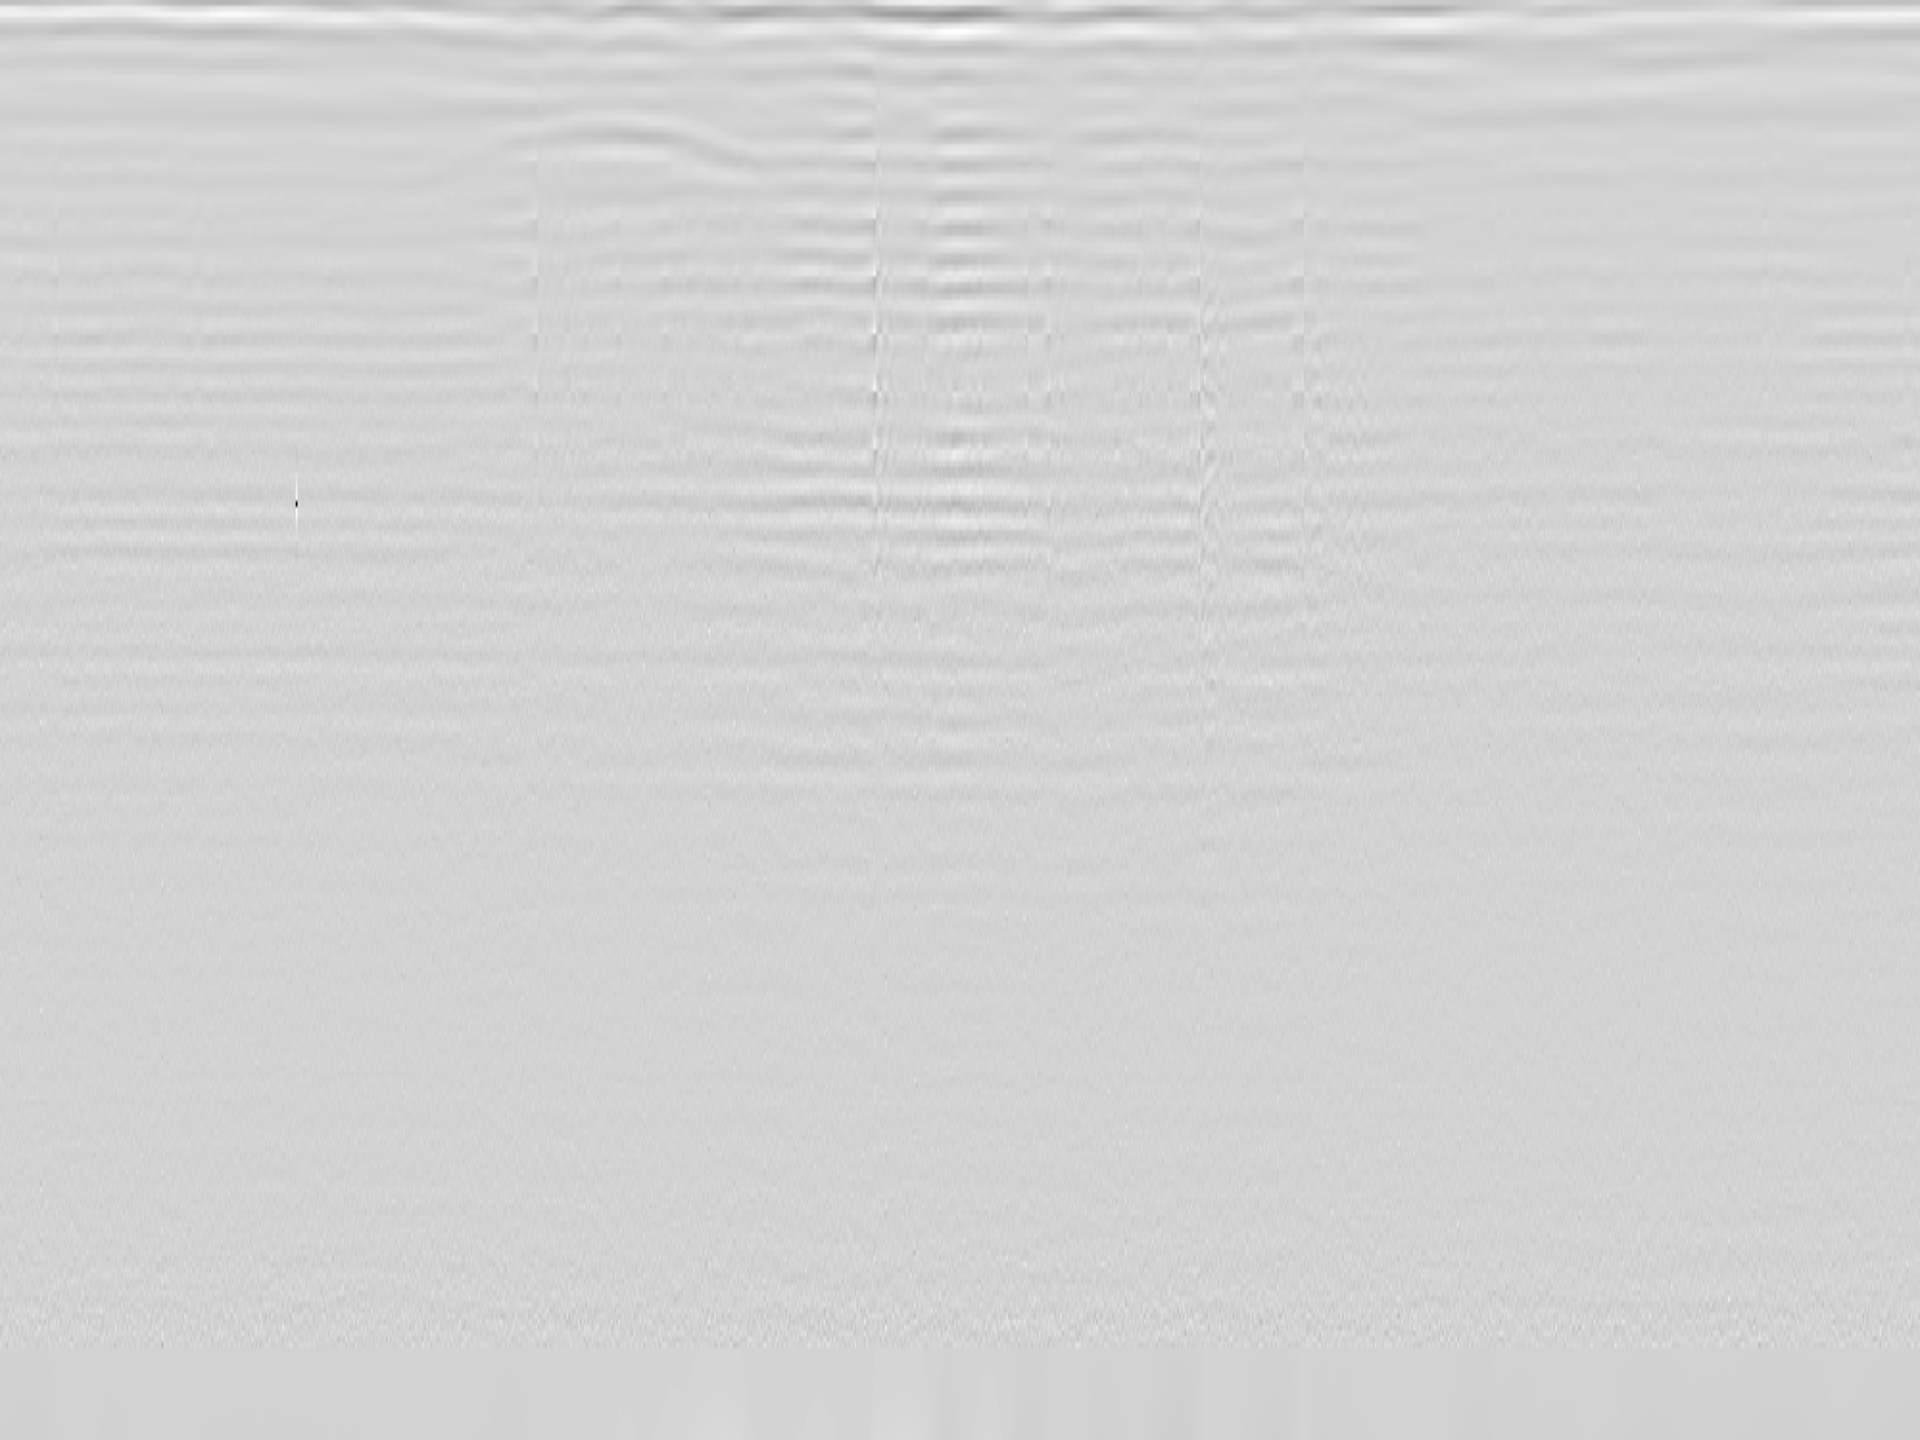Tunnel: (396, 112, 771, 175)
